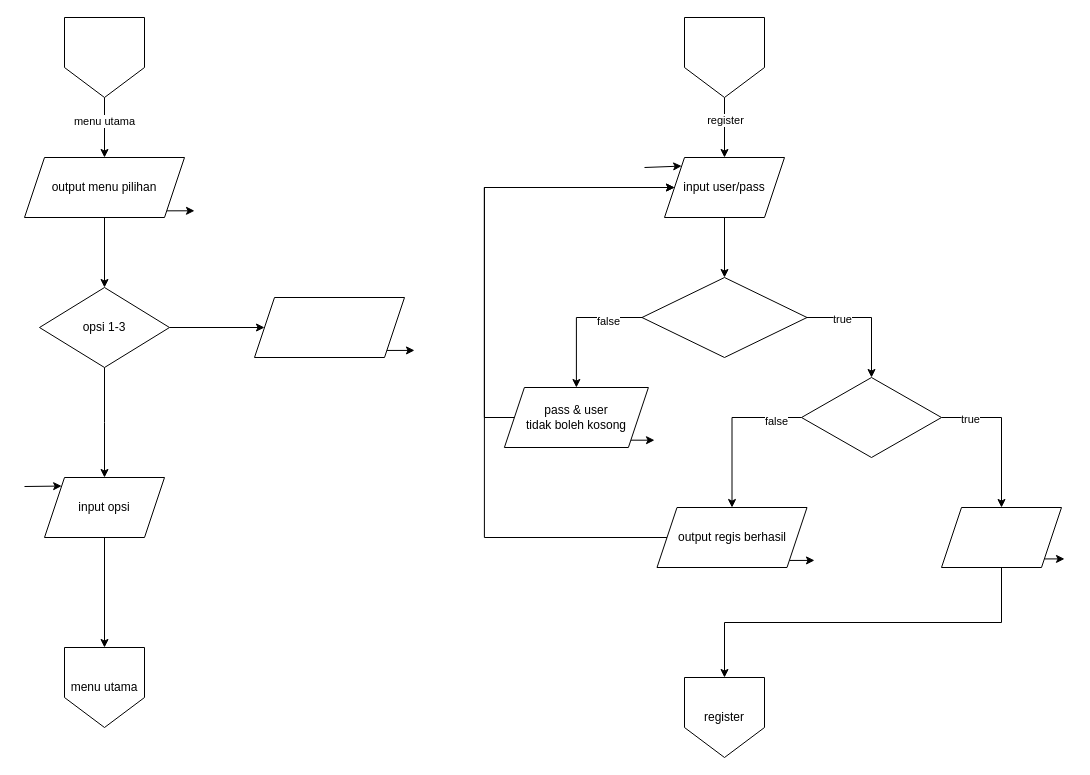
The diagram is 1090 pixels wide and 775 high, and some of its shapes have lost their labels. Here are the shapes that lost their labels. From the top down, the centre of each, then its label:
[329,327]: output "input tidak boleh kosong"
[724,317]: not new_user/new_pass
[871,417]: new_user in user_data
[1001,537]: output user sdh terdata
